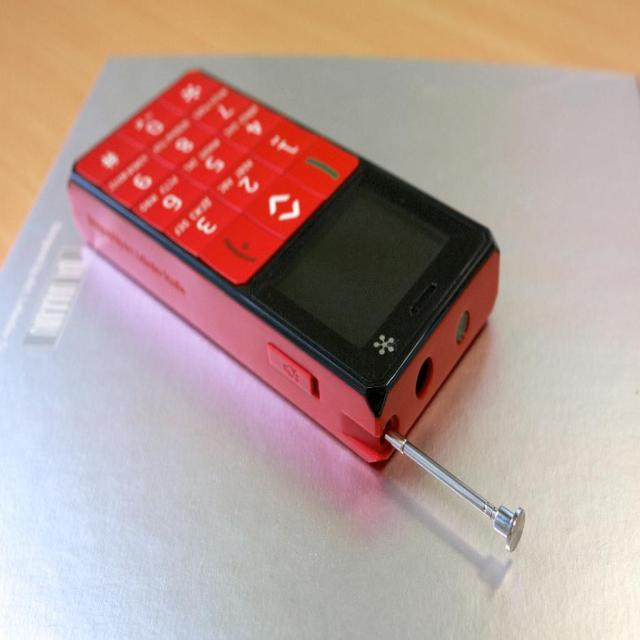Mobile-phone: (65, 85, 502, 498)
